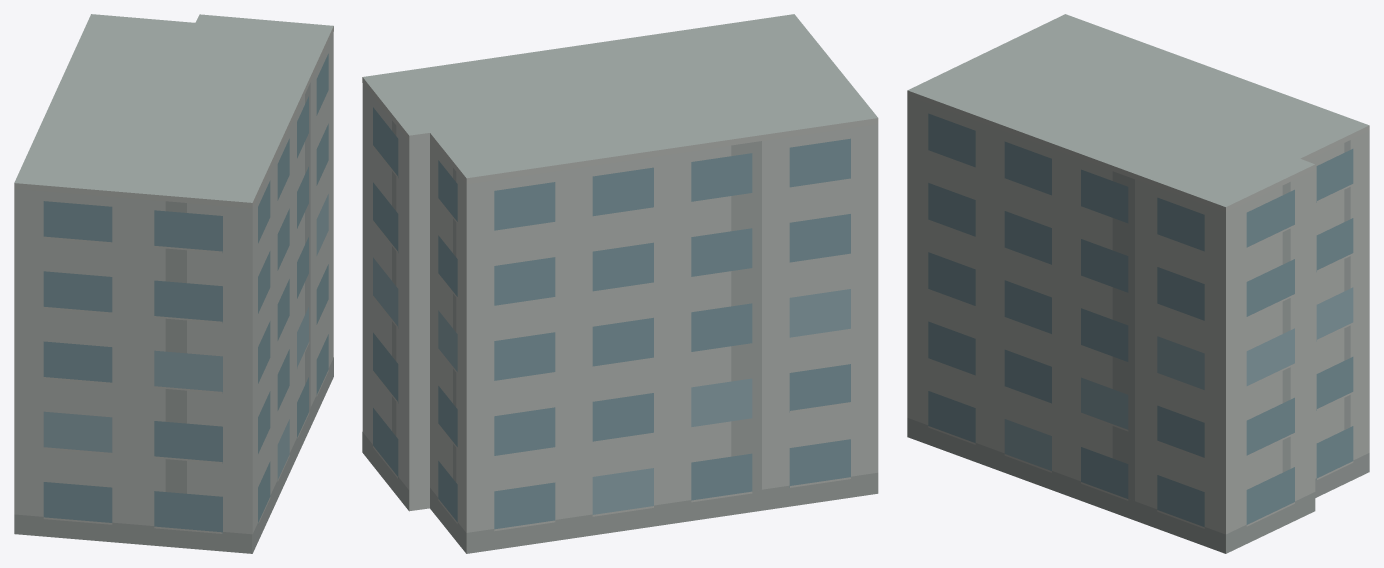
Rendered from survey-upis-33005905.glb.
The picture shows the model from 3 angles, left to right: view 1: azimuth 30°, elevation 25°; view 2: azimuth 150°, elevation 25°; view 3: azimuth 270°, elevation 25°; orthographic projection. The views are drawn at different scales.
Parts seen in each view (by area): view 1: survey-upis-33005905.tmp; view 2: survey-upis-33005905.tmp; view 3: survey-upis-33005905.tmp.
Part boxes in pixels (x1,y1,x2,y2): survey-upis-33005905.tmp: (14, 14, 333, 553); survey-upis-33005905.tmp: (362, 14, 878, 553); survey-upis-33005905.tmp: (907, 14, 1369, 553).
Size of the model in its own units: 18.41 by 15.4 by 18.61.
